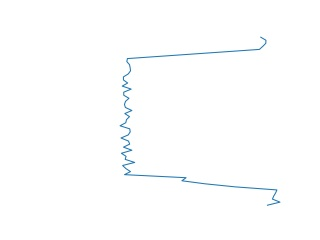distributaryChannelFill: (116, 36, 286, 207)
